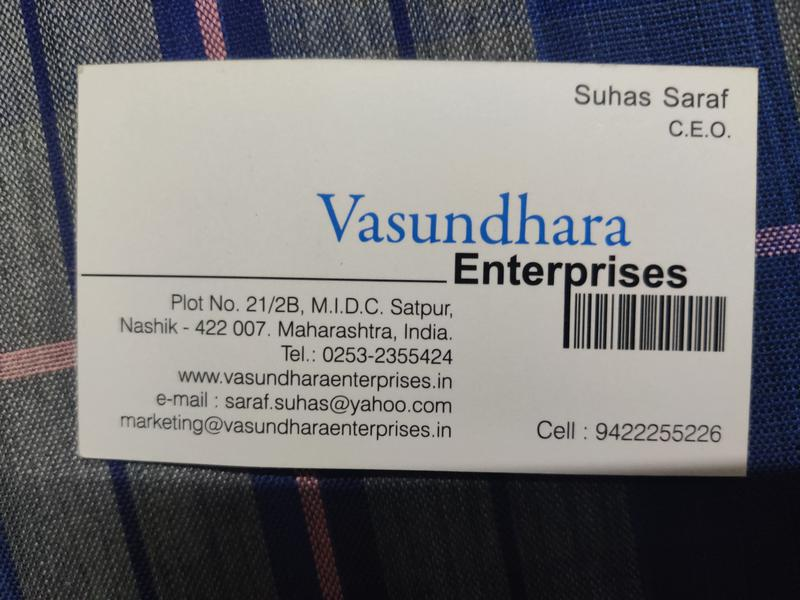card: (74, 62, 760, 476)
